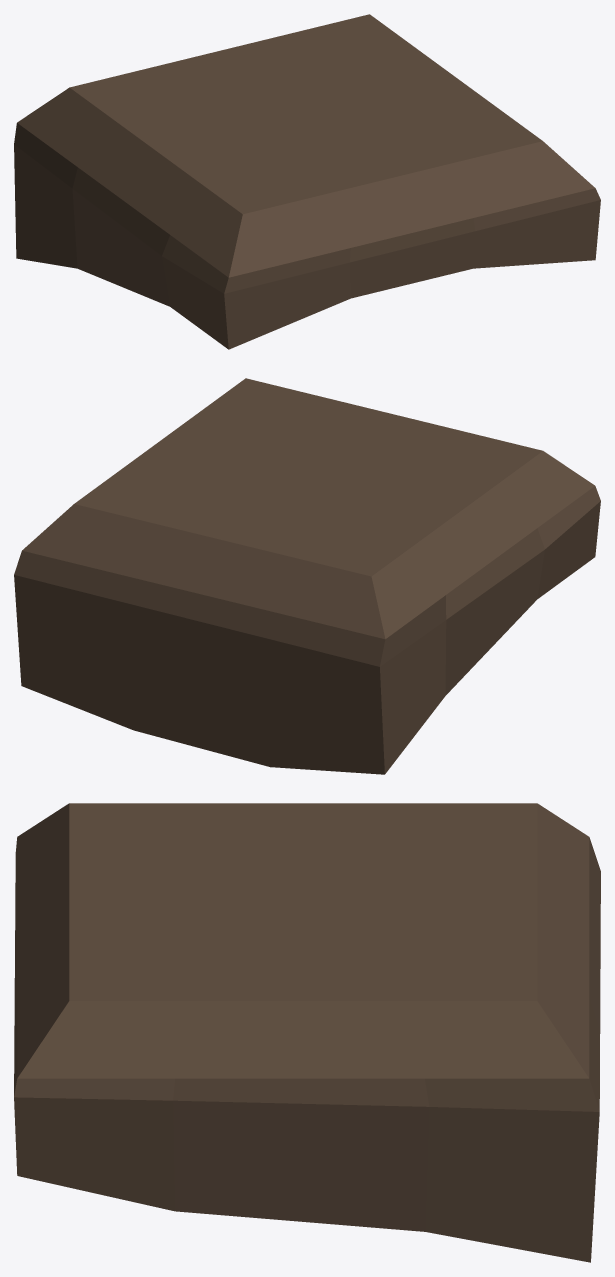
Rendered from Item_Equipment_Head_BasicHat.fbx.
3 views of the same model, one above another, from view 1: azimuth 30°, elevation 25°; view 2: azimuth 150°, elevation 25°; view 3: azimuth 270°, elevation 25° (orthographic). The views are drawn at different scales.
Parts seen in each view (by area): view 1: Item_Gear_Helmet_BasicHat; view 2: Item_Gear_Helmet_BasicHat; view 3: Item_Gear_Helmet_BasicHat.
Part boxes in pixels (x1,y1,x2,y2): Item_Gear_Helmet_BasicHat: (14, 14, 600, 349); Item_Gear_Helmet_BasicHat: (14, 378, 600, 774); Item_Gear_Helmet_BasicHat: (14, 803, 600, 1262).
Bounding box in the file's own units: 1.68 × 0.8406 × 1.67.
